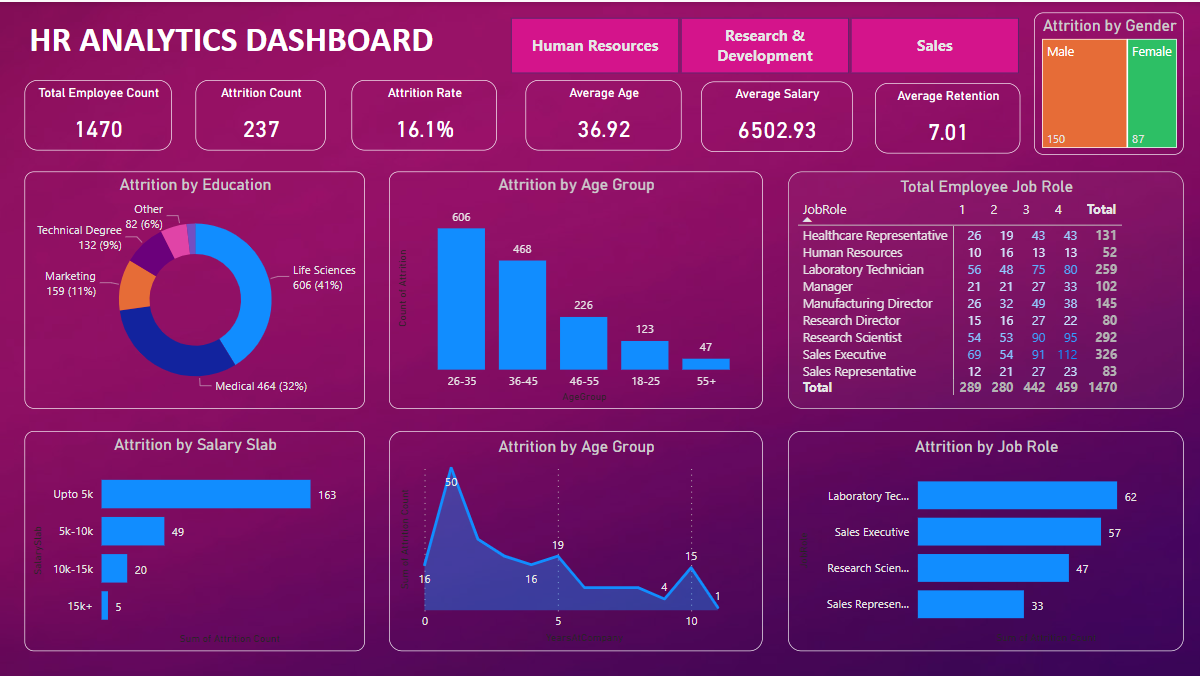

This screenshot's page, from the dashboard's own definition file:
{"tool":"powerbi","page":{"name":"Page 1","canvas":[1280,720],"ordinal":0},"visuals":[{"type":"cardVisual","title":"Total Employee Count","fields":{"Data":["CountNonNull(HR_Analytics.EmployeeCount)"]},"box":[27,82.6,155.8,74.7],"z":0},{"type":"cardVisual","title":"Attrition Count","fields":{"Data":["Sum(HR_Analytics.Attrition Count)"]},"box":[208.2,82.6,138.3,74.7],"z":1000},{"type":"cardVisual","title":"Attrition Rate","fields":{"Data":["HR_Analytics.AttritionRate"]},"box":[373.5,82.6,154.2,74.7],"z":2000},{"type":"cardVisual","title":"Average Age","fields":{"Data":["Avg(HR_Analytics.Age)"]},"box":[557.9,82.6,165.3,74.7],"z":3000},{"type":"cardVisual","title":"Average Salary","fields":{"Data":["Avg(HR_Analytics.MonthlyIncome)"]},"box":[743.8,84.2,160.5,74.7],"z":4000},{"type":"cardVisual","title":"Average Retention ","fields":{"Data":["Avg(HR_Analytics.YearsAtCompany)"]},"box":[928.2,85.8,154.2,74.7],"z":5000},{"type":"donutChart","title":"Attrition by Education","fields":{"Y":["CountNonNull(HR_Analytics.Attrition)"],"Category":["HR_Analytics.EducationField"]},"box":[27,179.6,360.8,251.1],"z":6000},{"type":"pivotTable","title":"Total Employee Job Role","fields":{"Rows":["HR_Analytics.JobRole"],"Columns":["HR_Analytics.JobSatisfaction"],"Values":["Sum(HR_Analytics.EmployeeCount)"]},"box":[836,179.6,419.6,251.1],"z":7000},{"type":"columnChart","title":"Attrition by Age Group","fields":{"Category":["HR_Analytics.AgeGroup"],"Y":["CountNonNull(HR_Analytics.Attrition)"]},"box":[413.2,179.6,395.8,251.1],"z":8000},{"type":"barChart","title":"Attrition by Salary Slab","fields":{"Category":["HR_Analytics.SalarySlab"],"Y":["Sum(HR_Analytics.Attrition Count)"]},"box":[27,454.6,360.8,233.6],"z":9000},{"type":"areaChart","title":"Attrition by Age Group","fields":{"Category":["HR_Analytics.YearsAtCompany"],"Y":["Sum(HR_Analytics.Attrition Count)"]},"box":[413.2,454.6,395.8,233.6],"z":10000},{"type":"barChart","title":"Attrition by Job Role","fields":{"Y":["Sum(HR_Analytics.Attrition Count)"],"Category":["HR_Analytics.JobRole"]},"box":[836,454.6,419.6,233.6],"z":11000},{"type":"treemap","title":"Attrition by Gender","fields":{"Group":["HR_Analytics.Gender"],"Values":["Sum(HR_Analytics.Attrition Count)"]},"box":[1096.7,11.1,158.9,151],"z":12000},{"type":"slicer","title":"Department","fields":{"Values":["HR_Analytics.Department"]},"box":[516.6,9.5,588.1,73.1],"z":13000},{"type":"textbox","box":[27,11.1,457.7,71.5],"z":14000}]}

Visuals, with their boxes in screenshot pixels (x1, y1, x2, y2), scaled from the page's 1280x720 canvas onto the 1200x676 screenshot:
"Total Employee Count" cardVisual: (left=25, top=78, right=171, bottom=148)
"Attrition Count" cardVisual: (left=195, top=78, right=325, bottom=148)
"Attrition Rate" cardVisual: (left=350, top=78, right=495, bottom=148)
"Average Age" cardVisual: (left=523, top=78, right=678, bottom=148)
"Average Salary" cardVisual: (left=697, top=79, right=848, bottom=149)
"Average Retention " cardVisual: (left=870, top=81, right=1015, bottom=151)
"Attrition by Education" donutChart: (left=25, top=169, right=364, bottom=404)
"Total Employee Job Role" pivotTable: (left=784, top=169, right=1177, bottom=404)
"Attrition by Age Group" columnChart: (left=387, top=169, right=758, bottom=404)
"Attrition by Salary Slab" barChart: (left=25, top=427, right=364, bottom=646)
"Attrition by Age Group" areaChart: (left=387, top=427, right=758, bottom=646)
"Attrition by Job Role" barChart: (left=784, top=427, right=1177, bottom=646)
"Attrition by Gender" treemap: (left=1028, top=10, right=1177, bottom=152)
"Department" slicer: (left=484, top=9, right=1036, bottom=78)
textbox: (left=25, top=10, right=454, bottom=78)
